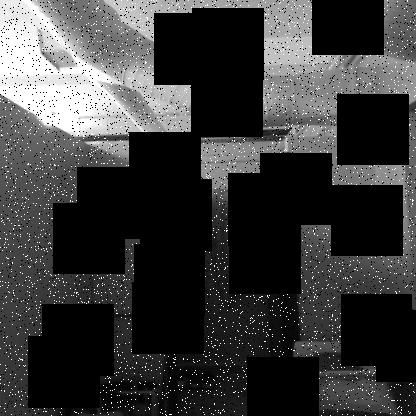Porte: (158, 152, 302, 415)
